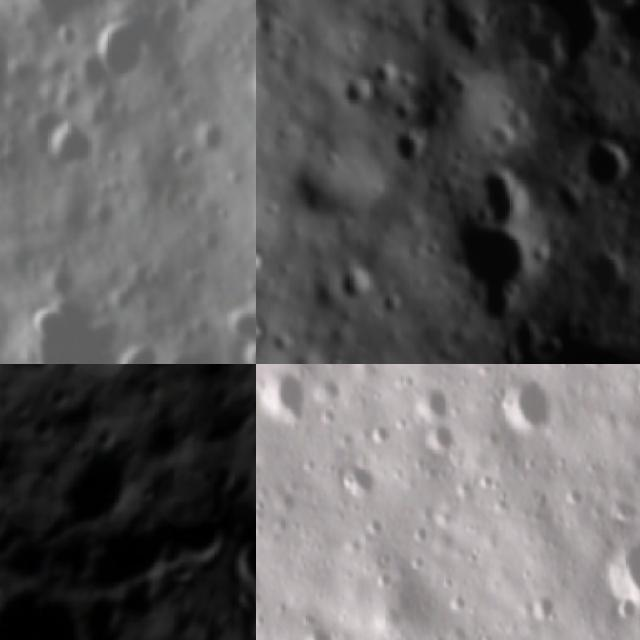crater: (37, 426, 152, 547), (0, 562, 118, 640), (439, 218, 540, 298), (122, 397, 205, 483), (531, 0, 611, 66), (468, 165, 546, 228), (86, 9, 147, 86), (601, 527, 640, 623), (39, 112, 97, 176), (492, 371, 554, 429), (577, 136, 637, 194), (256, 366, 306, 432), (28, 294, 79, 342), (334, 456, 371, 506), (475, 285, 519, 325), (337, 72, 376, 115), (451, 23, 488, 65), (390, 131, 430, 168), (418, 423, 462, 456), (338, 266, 376, 304), (111, 338, 164, 364), (586, 0, 638, 26), (484, 117, 520, 153), (412, 390, 454, 420), (291, 611, 334, 640), (55, 18, 91, 52), (196, 123, 224, 165), (516, 58, 550, 92), (504, 106, 536, 142), (523, 593, 557, 626), (369, 61, 406, 90), (600, 46, 634, 76), (363, 412, 386, 446), (231, 337, 256, 364), (380, 292, 405, 319), (256, 250, 266, 279), (575, 364, 610, 371)
